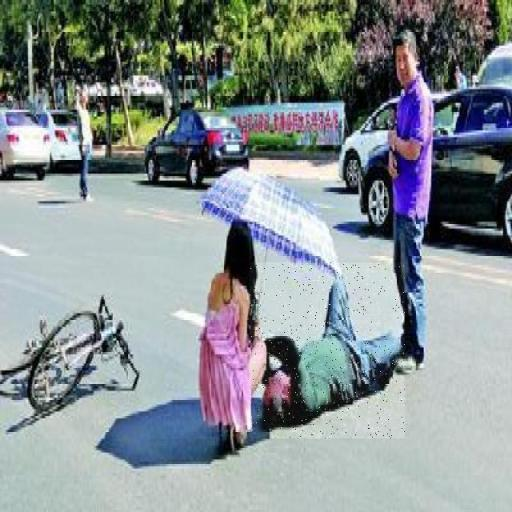Fall: (250, 263, 405, 439)
